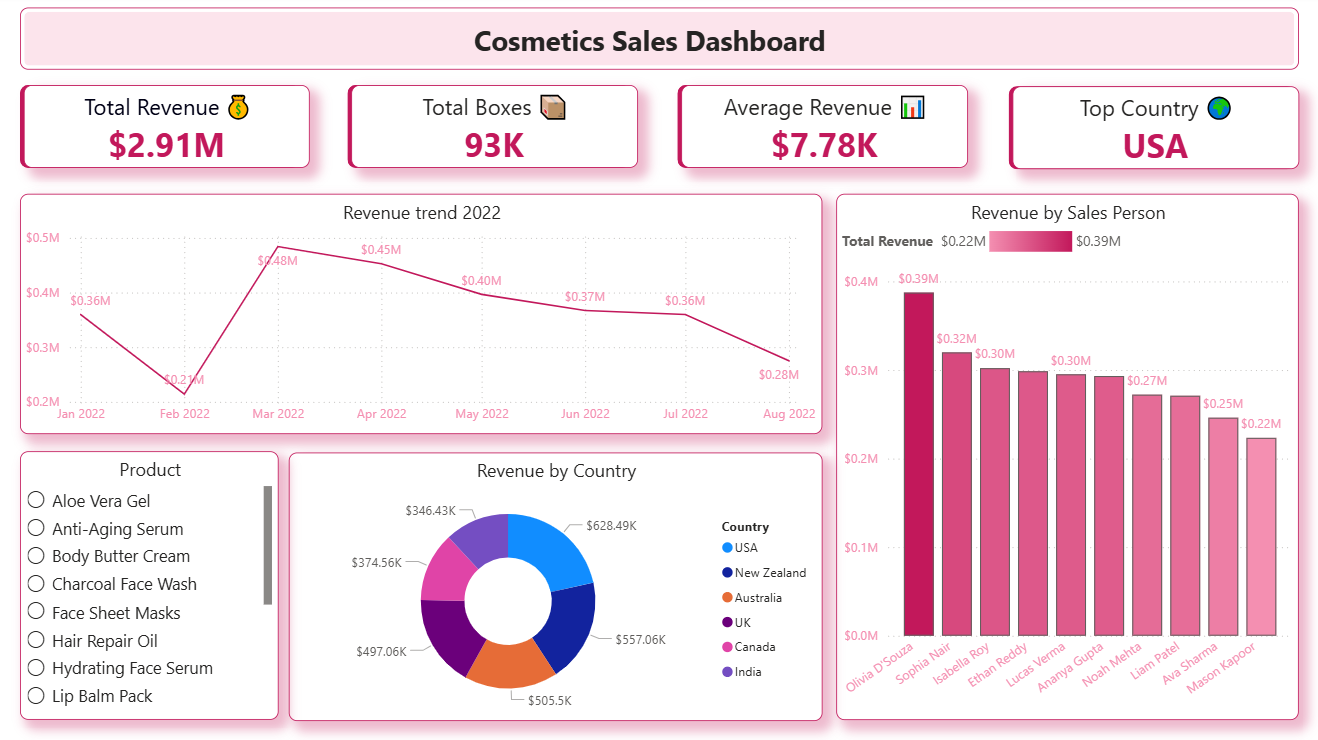

What the dashboard file says about the page in this screenshot:
{"tool":"powerbi","page":{"name":"Executive summary","canvas":[1280,720],"ordinal":0},"visuals":[{"type":"shape","box":[24.1,12.1,1234.2,60.3],"z":0},{"type":"shape","box":[340.2,86.9,272.9,80],"z":0,"group":"g3"},{"type":"shape","box":[978.4,88.1,276.5,80],"z":0,"group":"g1"},{"type":"shape","box":[24.1,86.9,270.1,80],"z":1000,"group":"g4"},{"type":"shape","box":[658.7,86.9,276.5,80],"z":1000,"group":"g2"},{"type":"lineChart","title":"Revenue trend 2022","fields":{"Y":["cosmetics_sales_data.Total Revenue"],"Category":["cosmetics_sales_data.Month-Year"]},"box":[24.1,191.8,774.5,231.6],"z":1000},{"type":"columnChart","title":"Revenue by Sales Person","fields":{"Y":["cosmetics_sales_data.Total Revenue"],"Category":["cosmetics_sales_data.Sales Person"]},"box":[811.9,191.8,446.4,507.9],"z":2000},{"type":"card","title":"Total Revenue 💰","fields":{"Values":["cosmetics_sales_data.Total Revenue"]},"box":[27.8,86.9,276.3,80],"z":3000,"group":"g4"},{"type":"card","title":"Average Revenue 📊","fields":{"Values":["cosmetics_sales_data.Avg Revenue"]},"box":[662.2,86.9,276.5,80],"z":3000,"group":"g2"},{"type":"donutChart","title":"Revenue by Country","fields":{"Y":["cosmetics_sales_data.Total Revenue"],"Category":["cosmetics_sales_data.Country"]},"box":[283.5,441.6,515.2,259.4],"z":3000},{"type":"card","title":"Total Boxes 📦","fields":{"Values":["cosmetics_sales_data.Total Boxes"]},"box":[343.8,86.9,276.4,80],"z":4000,"group":"g3"},{"type":"card","title":"Top Country 🌍","fields":{"Values":["cosmetics_sales_data.Top Country"]},"box":[981.9,88.1,276.5,80],"z":4000,"group":"g1"},{"type":"listSlicer","fields":{"Values":["cosmetics_sales_data.Product"]},"box":[24.1,440.4,249.7,259.4],"z":4000},{"type":"group","id":"g1","title":"Group 1","box":[978.4,88.1,279.9,79.6],"z":5000},{"type":"group","id":"g2","title":"Group 2","box":[658.7,86.9,279.9,79.6],"z":6000},{"type":"group","id":"g3","title":"Group 3","box":[340.2,86.9,279.9,79.6],"z":7000},{"type":"group","id":"g4","title":"Group 4","box":[24.1,86.9,279.9,79.6],"z":8000},{"type":"textbox","box":[457.1,20,364.3,51.4],"z":9000}]}

Visuals, with their boxes in screenshot pixels (x1, y1, x2, y2), scaled from the page's 1280x720 canvas onto the 1318x740 screenshot:
shape: (x1=25, y1=12, x2=1296, y2=74)
shape: (x1=350, y1=89, x2=631, y2=172)
shape: (x1=1007, y1=91, x2=1292, y2=173)
shape: (x1=25, y1=89, x2=303, y2=172)
shape: (x1=678, y1=89, x2=963, y2=172)
"Revenue trend 2022" lineChart: (x1=25, y1=197, x2=822, y2=435)
"Revenue by Sales Person" columnChart: (x1=836, y1=197, x2=1296, y2=719)
"Total Revenue 💰" card: (x1=29, y1=89, x2=313, y2=172)
"Average Revenue 📊" card: (x1=682, y1=89, x2=967, y2=172)
"Revenue by Country" donutChart: (x1=292, y1=454, x2=822, y2=720)
"Total Boxes 📦" card: (x1=354, y1=89, x2=639, y2=172)
"Top Country 🌍" card: (x1=1011, y1=91, x2=1296, y2=173)
listSlicer - cosmetics_sales_data.Product: (x1=25, y1=453, x2=282, y2=719)
"Group 1" group: (x1=1007, y1=91, x2=1296, y2=172)
"Group 2" group: (x1=678, y1=89, x2=966, y2=171)
"Group 3" group: (x1=350, y1=89, x2=639, y2=171)
"Group 4" group: (x1=25, y1=89, x2=313, y2=171)
textbox: (x1=471, y1=21, x2=846, y2=73)
